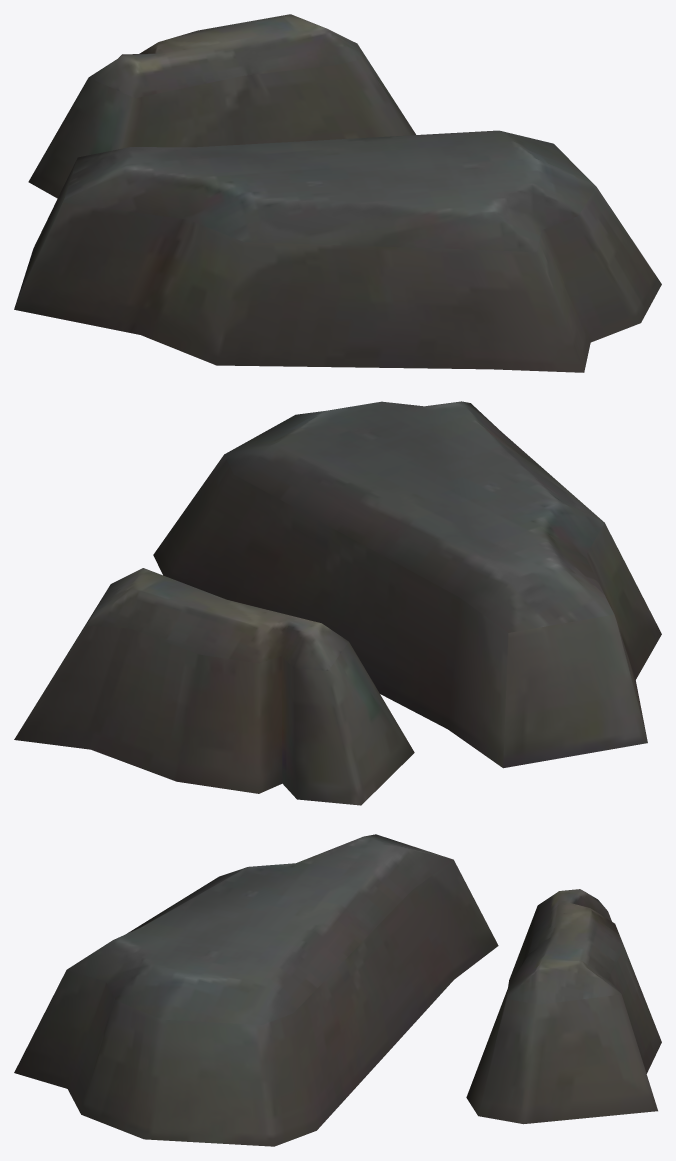
3 views of the same model, one above another, from view 1: azimuth 30°, elevation 25°; view 2: azimuth 150°, elevation 25°; view 3: azimuth 270°, elevation 25° (orthographic). The views are drawn at different scales.
Size of the model in its own units: 1.44 by 0.3352 by 1.67.
Materials: 1 (1 with a texture image).
